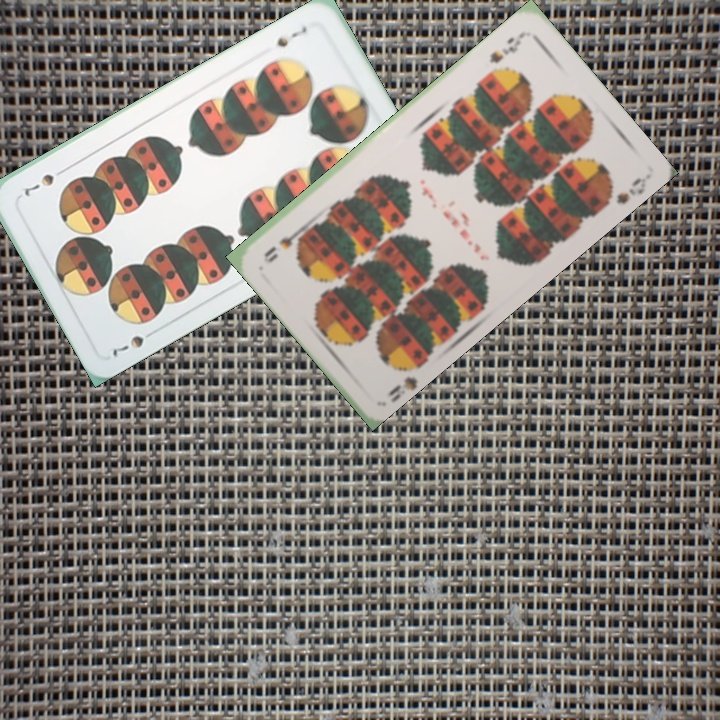S7: (108, 325, 160, 359), (272, 23, 310, 50)
S9: (383, 354, 426, 403), (485, 28, 527, 66)
